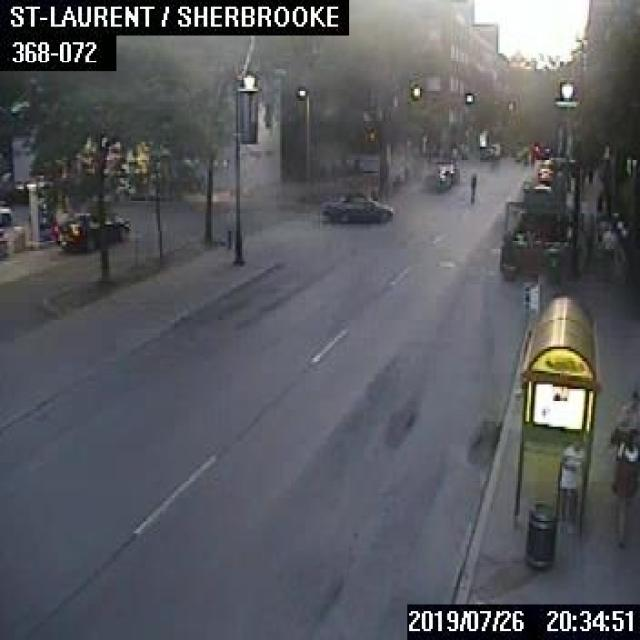pedestrian: (610, 431, 638, 547), (555, 440, 581, 526), (608, 390, 638, 446), (598, 222, 616, 273), (466, 171, 476, 203)
vehicle: (54, 210, 130, 250), (10, 132, 49, 198), (318, 189, 393, 220), (433, 156, 458, 184), (0, 204, 15, 244), (478, 140, 498, 158), (535, 158, 551, 180)
